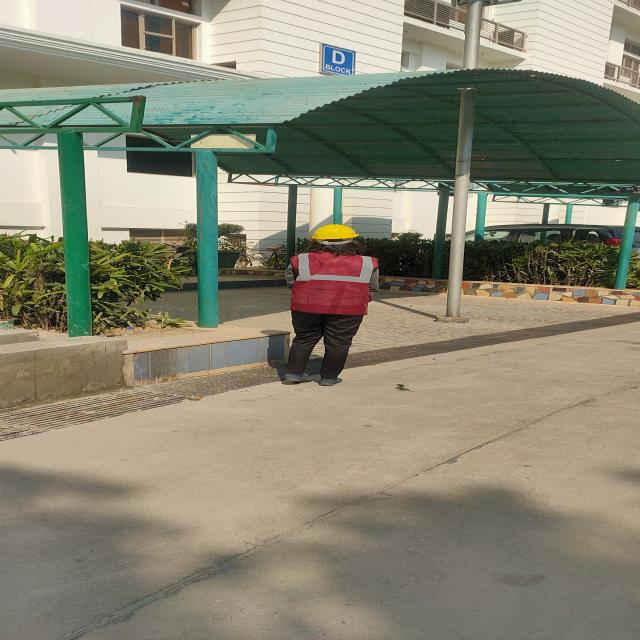safe: (284, 224, 376, 386)
